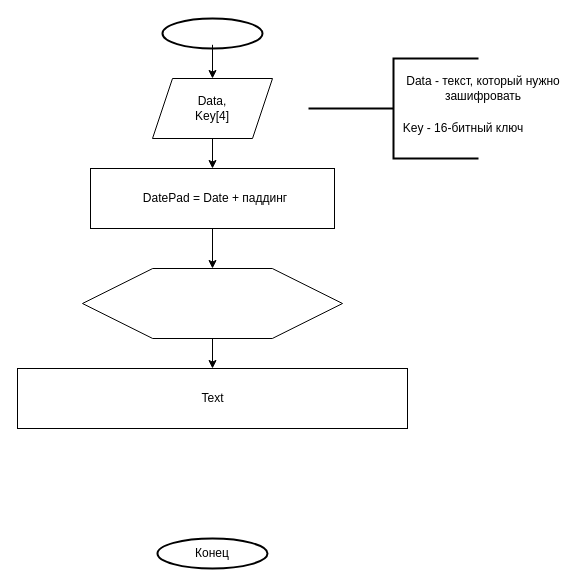
This 586x586 diagram has some shape labels left out. Here are the shapes that lost their labels. From the top down, the box of each, then its label:
(161, 17, 263, 49): Начало
(82, 268, 342, 338): i=0; i < DatePad [max]; i +=8
